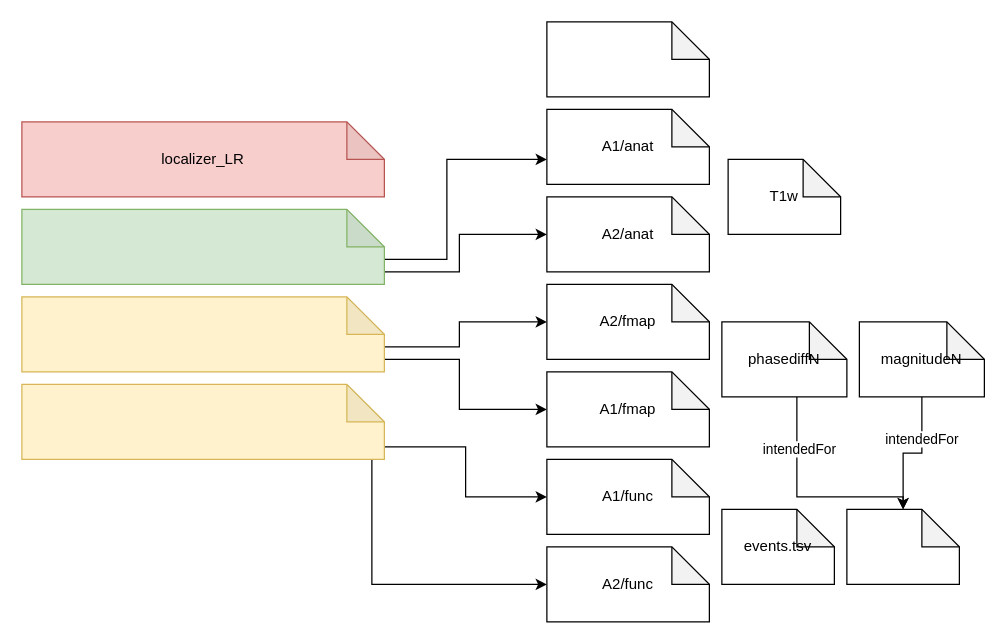
The diagram is 1006 pixels wide and 644 high, and some of its shapes have lost their labels. The shapes that lost their labels are listed below. From the top down, each one's centre as x and y in pixels, then its label:
the point at 627,59: participants.tsv
the point at 202,246: MPRAGE_T1_SAG_LR_(192)_Isotropic
the point at 202,334: gre_field_mapping
the point at 202,421: ep2d_bold
the point at 902,546: bold-runXXX
